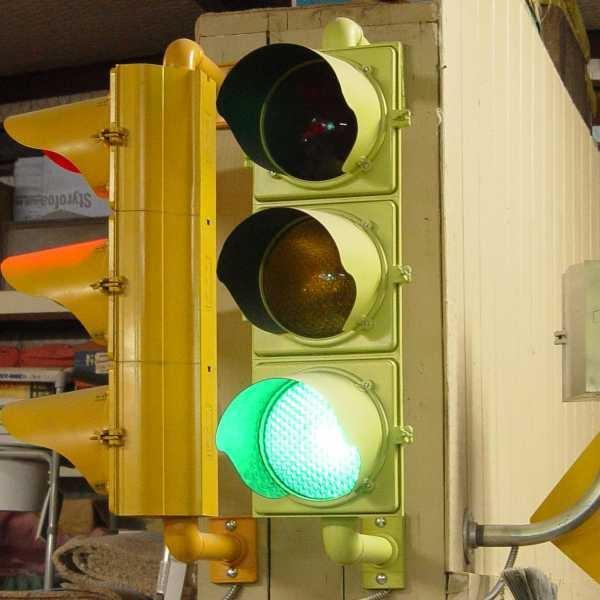green: (218, 39, 396, 516), (218, 354, 393, 513)
